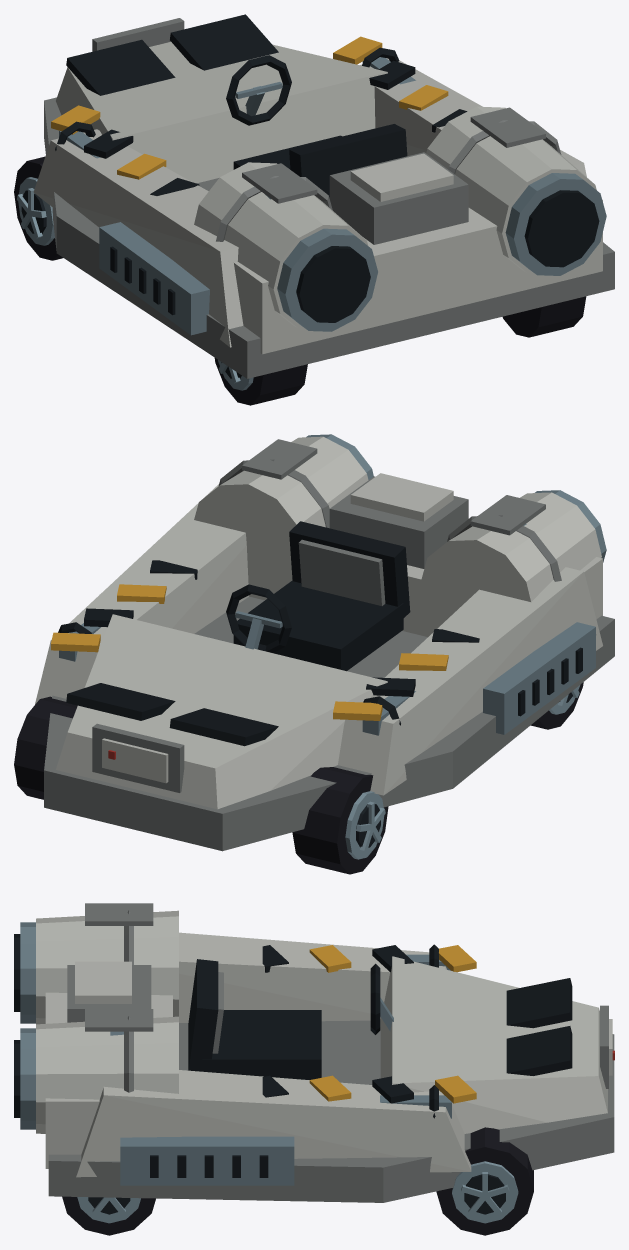
The model's file is kart.glb.
The picture shows the model from 3 angles, top to bottom: view 1: azimuth 30°, elevation 25°; view 2: azimuth 150°, elevation 25°; view 3: azimuth 270°, elevation 25°; orthographic projection. The views are drawn at different scales.
Parts seen in each view (by area): view 1: identity-narcissus-narcissus-chamfered-shuttle-wedge, identity-narcissus-narcissus-paired-rounded-aft-thrusters-an, identity-narcissus-driver-cockpit, identity-narcissus-motif-hazard-stripes, wheel-front-left, wheel-rear-left, wheel-rear-right, identity-narcissus-motif-pipes; view 2: identity-narcissus-narcissus-chamfered-shuttle-wedge, identity-narcissus-narcissus-paired-rounded-aft-thrusters-an, identity-narcissus-driver-cockpit, wheel-front-left, identity-narcissus-motif-hazard-stripes, wheel-front-right, identity-narcissus-motif-pipes, wheel-rear-left; view 3: identity-narcissus-narcissus-chamfered-shuttle-wedge, identity-narcissus-narcissus-paired-rounded-aft-thrusters-an, identity-narcissus-driver-cockpit, wheel-front-right, identity-narcissus-motif-hazard-stripes, wheel-rear-right, identity-narcissus-motif-pipes.
Part boxes in pixels (left/top/right/bottom): identity-narcissus-narcissus-chamfered-shuttle-wedge: left=33, top=14, right=614, bottom=378; identity-narcissus-narcissus-paired-rounded-aft-thrusters-an: left=92, top=18, right=606, bottom=331; identity-narcissus-driver-cockpit: left=226, top=55, right=407, bottom=197; identity-narcissus-motif-hazard-stripes: left=51, top=36, right=467, bottom=195; wheel-front-left: left=14, top=156, right=62, bottom=260; wheel-rear-left: left=214, top=358, right=307, bottom=405; wheel-rear-right: left=502, top=296, right=586, bottom=337; identity-narcissus-motif-pipes: left=55, top=47, right=415, bottom=199; identity-narcissus-narcissus-chamfered-shuttle-wedge: left=35, top=473, right=614, bottom=851; identity-narcissus-narcissus-paired-rounded-aft-thrusters-an: left=92, top=434, right=606, bottom=792; identity-narcissus-driver-cockpit: left=226, top=521, right=410, bottom=671; wheel-front-left: left=292, top=767, right=388, bottom=874; identity-narcissus-motif-hazard-stripes: left=51, top=560, right=479, bottom=720; wheel-front-right: left=14, top=696, right=77, bottom=799; identity-narcissus-motif-pipes: left=58, top=524, right=526, bottom=735; wheel-rear-left: left=530, top=682, right=583, bottom=729; identity-narcissus-narcissus-chamfered-shuttle-wedge: left=45, top=932, right=614, bottom=1202; identity-narcissus-narcissus-paired-rounded-aft-thrusters-an: left=14, top=903, right=614, bottom=1133; identity-narcissus-driver-cockpit: left=188, top=959, right=393, bottom=1079; wheel-front-right: left=436, top=1127, right=533, bottom=1235; identity-narcissus-motif-hazard-stripes: left=262, top=945, right=476, bottom=1103; wheel-rear-right: left=62, top=1196, right=155, bottom=1235; identity-narcissus-motif-pipes: left=110, top=944, right=451, bottom=1118.
Bounding box in the file's own units: 2.3 × 1.11 × 3.07.
